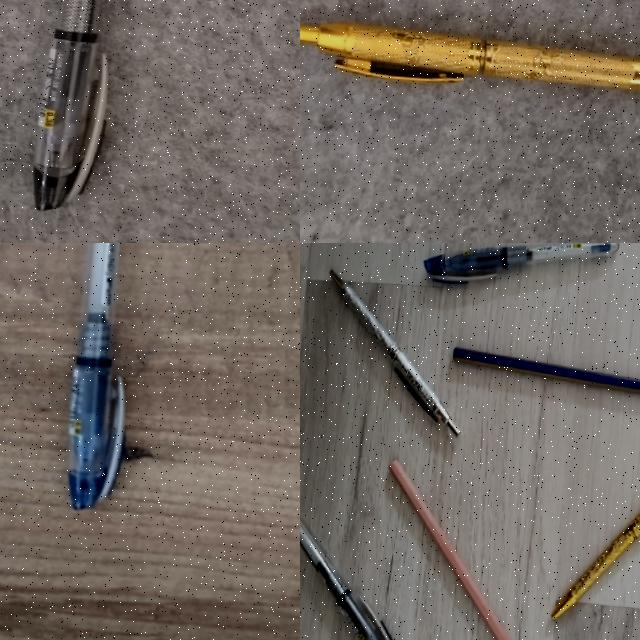pen: (300, 493, 407, 640), (66, 243, 124, 509), (34, 0, 107, 210), (419, 243, 618, 292)
pencil: (390, 461, 510, 640), (448, 345, 640, 400)
signature pen: (318, 272, 462, 435), (300, 23, 639, 90), (548, 440, 640, 626)
